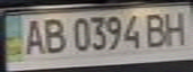0: (69, 15, 90, 53)
3: (87, 14, 109, 52)
4: (121, 11, 145, 51)
9: (103, 12, 127, 51)
A: (18, 16, 48, 56)
B: (142, 10, 172, 49), (39, 16, 69, 55)
H: (160, 8, 193, 47)
